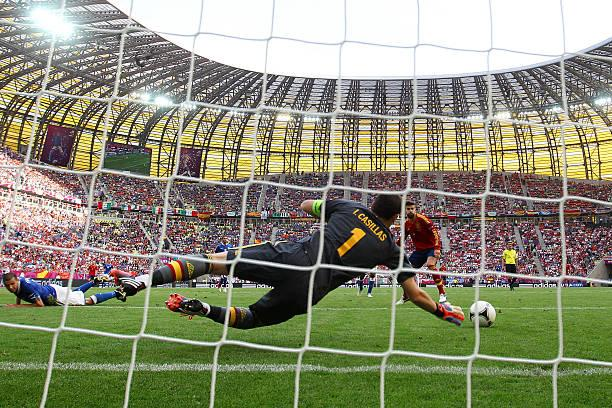Goalkeeper: (110, 195, 473, 329)
Player: (400, 201, 444, 306), (4, 273, 126, 307), (215, 235, 233, 252)
ball: (470, 301, 496, 327)
referee: (502, 243, 518, 295)
